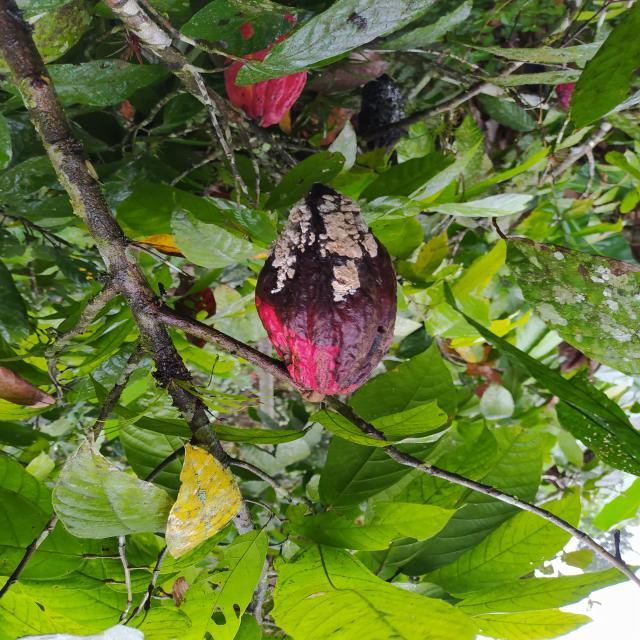Monilia: (253, 180, 400, 400)
